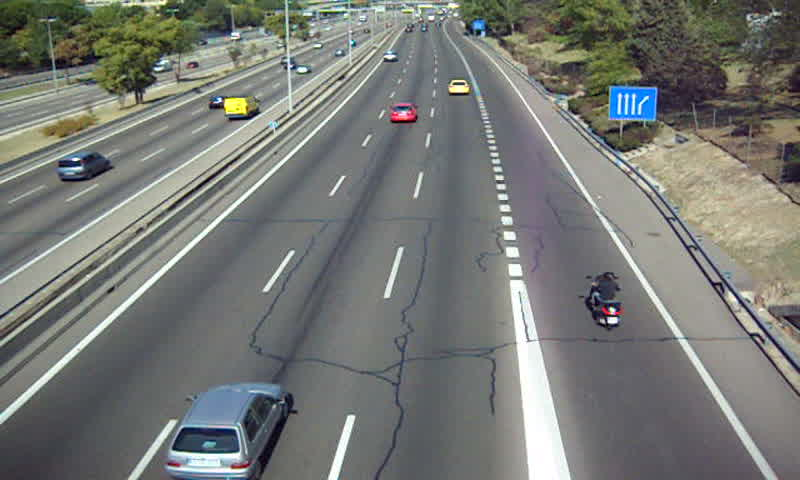car: (164, 383, 286, 480), (387, 101, 418, 124), (447, 80, 470, 97), (382, 52, 398, 63)
motorcycle: (588, 271, 624, 327)
